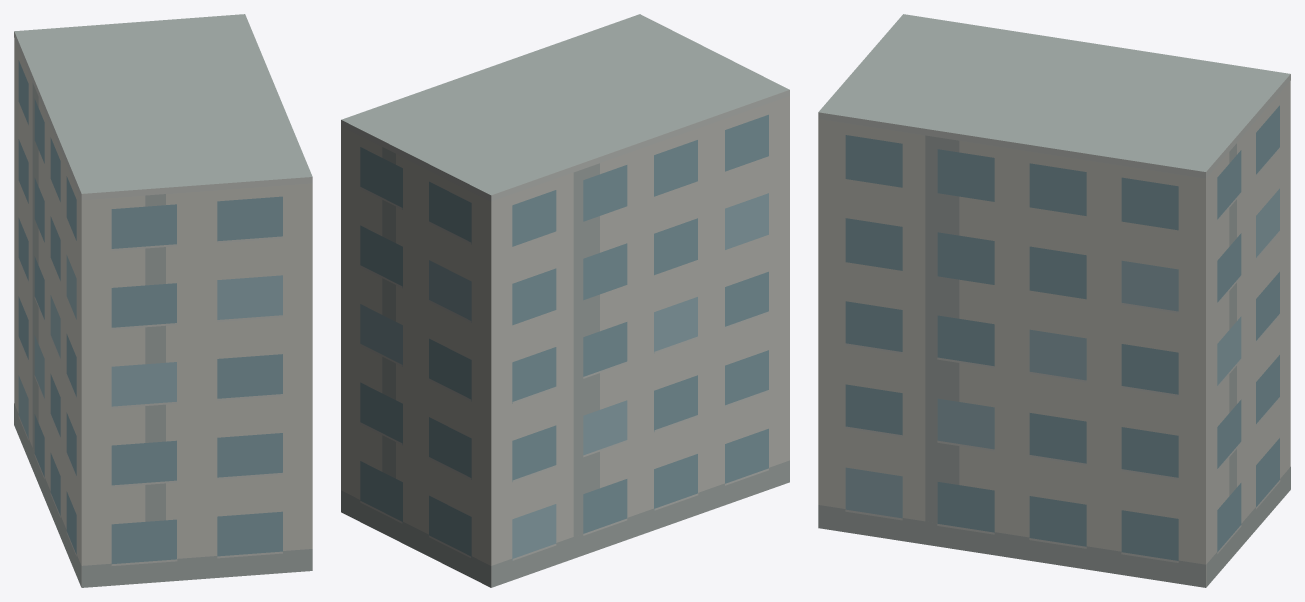
File: residential-8cb5ac2b-eb8a-4349-b2d7-2d5549f9bfad.glb
The picture shows the model from 3 angles, left to right: view 1: azimuth 30°, elevation 25°; view 2: azimuth 150°, elevation 25°; view 3: azimuth 270°, elevation 25°; orthographic projection. The views are drawn at different scales.
Parts seen in each view (by area): view 1: residential-8cb5ac2b-eb8a-4349-b2d7-2d5549f9bfad.tmp; view 2: residential-8cb5ac2b-eb8a-4349-b2d7-2d5549f9bfad.tmp; view 3: residential-8cb5ac2b-eb8a-4349-b2d7-2d5549f9bfad.tmp.
Boxes of the visible parts, box(x1,y1,x2,y2) form: residential-8cb5ac2b-eb8a-4349-b2d7-2d5549f9bfad.tmp: box(14, 14, 312, 587); residential-8cb5ac2b-eb8a-4349-b2d7-2d5549f9bfad.tmp: box(341, 14, 789, 587); residential-8cb5ac2b-eb8a-4349-b2d7-2d5549f9bfad.tmp: box(818, 14, 1290, 587).
Size of the model in its own units: 12.45 by 15.25 by 15.72.
